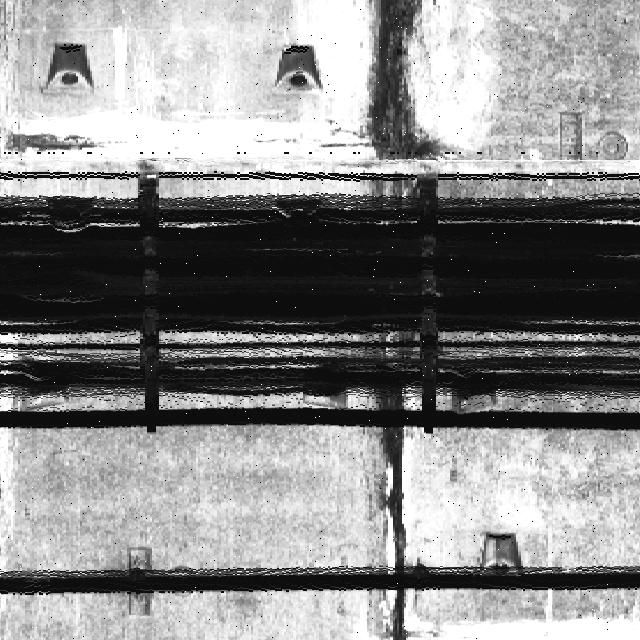leakage: (355, 0, 451, 198), (374, 379, 417, 638)
